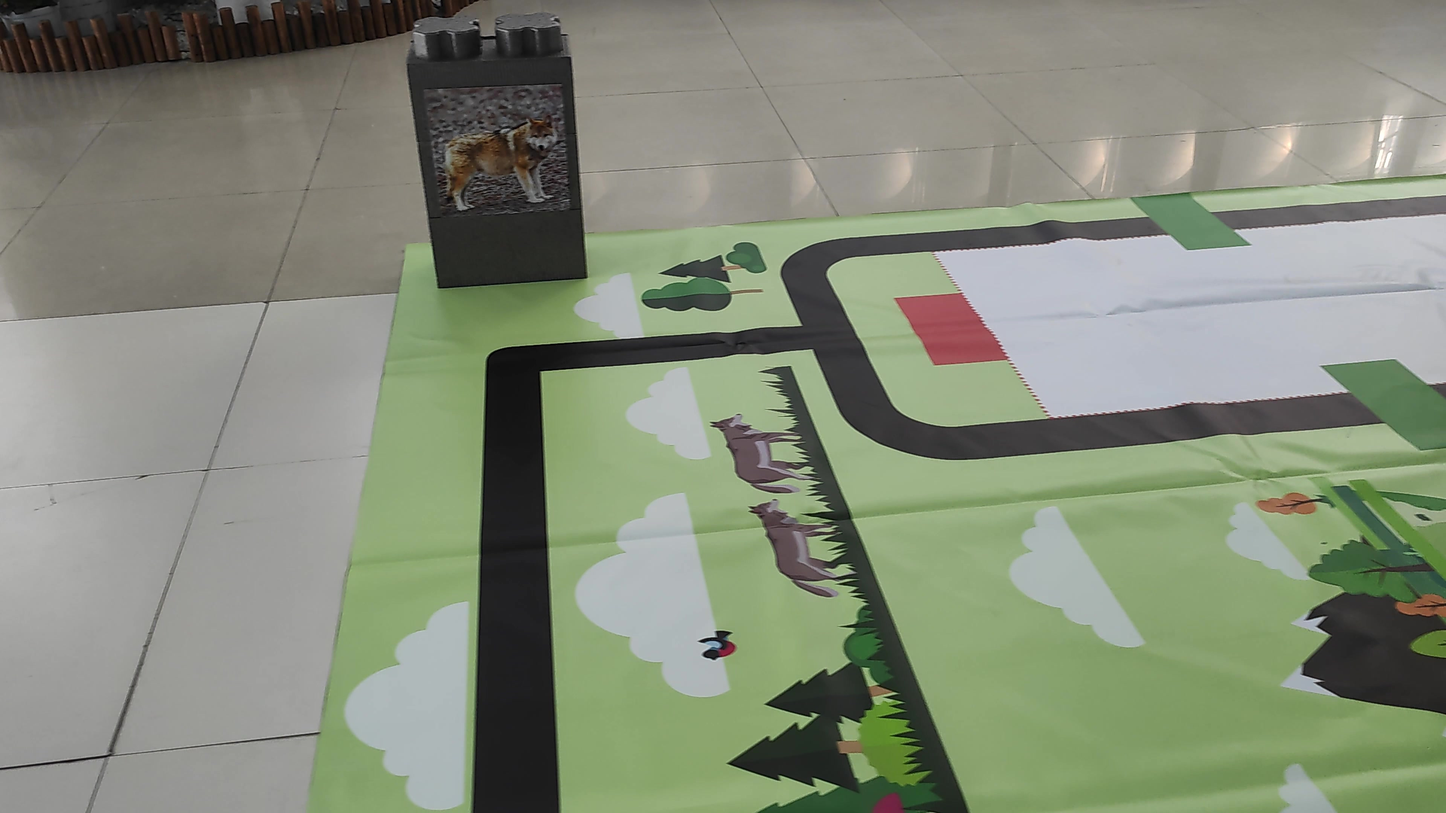wolf: (421, 87, 555, 216)
